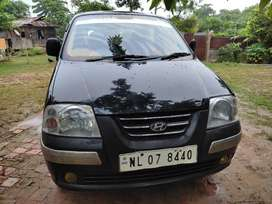NL078440: (118, 144, 197, 172)
